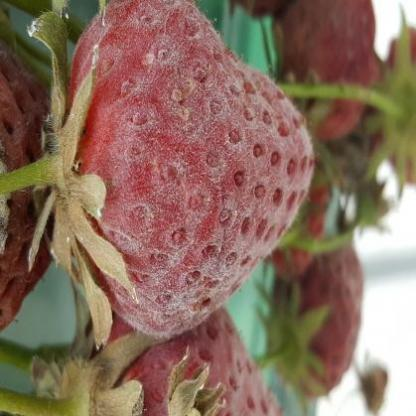Strawberry_Powdery_Mildew_Fruit: (52, 0, 316, 336), (66, 299, 285, 415), (0, 32, 53, 336)
